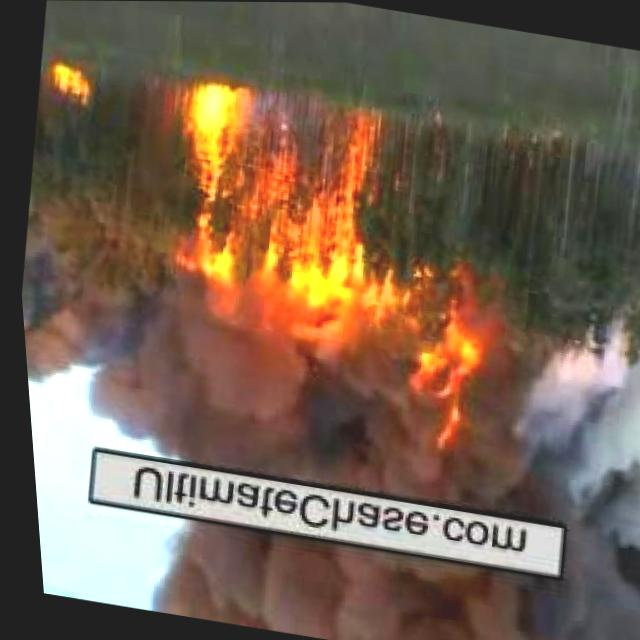Fire: (137, 56, 402, 297), (387, 305, 503, 434), (36, 59, 96, 107)
Smoke: (62, 292, 443, 496), (132, 514, 638, 640), (453, 325, 640, 541)
